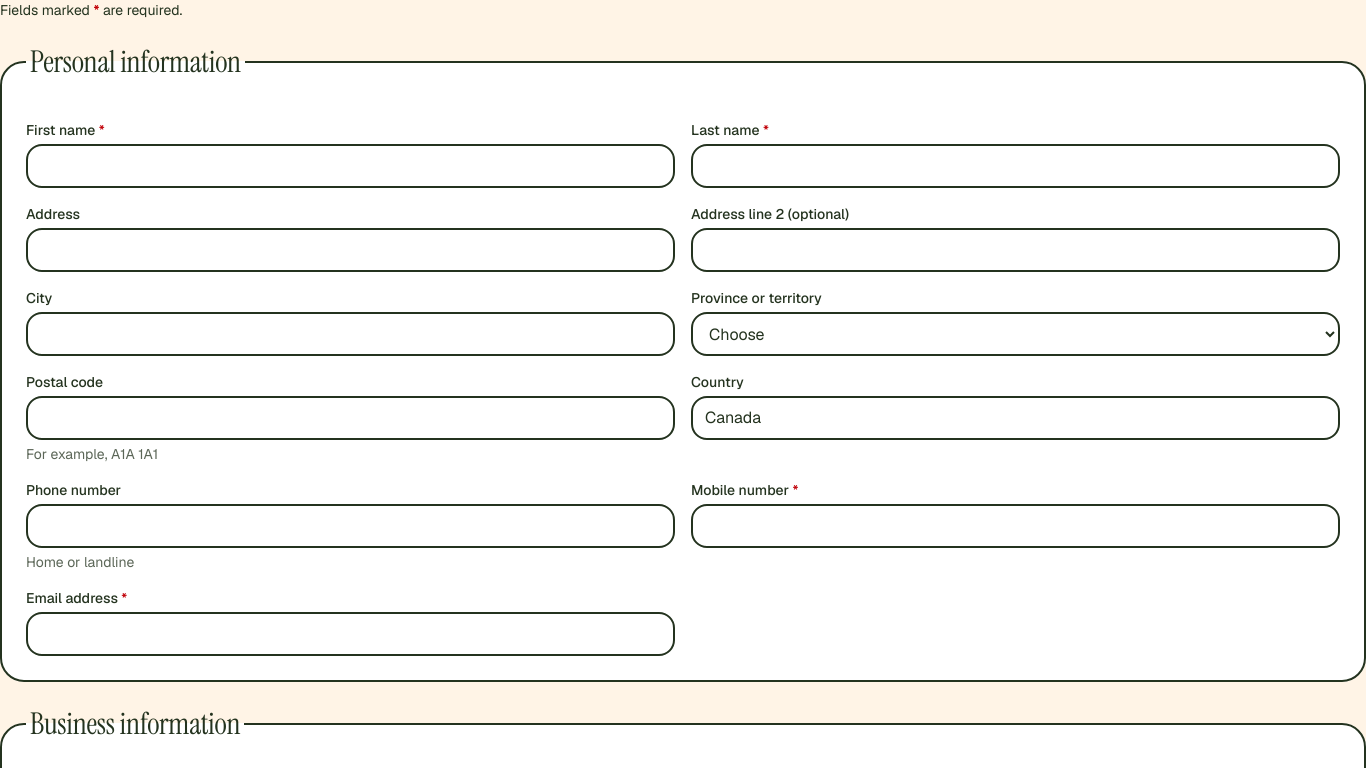
it: sign up form › signs up with the email box unticked, and shows the thank you message
The image size is (1366, 768).
Type "Test" into the field labelled "First name *" at (350, 166), box top-left (26, 144), bottom-right (675, 188)
Type "Person" into the field labelled "Last name *" at (1016, 166), box top-left (691, 144), bottom-right (1340, 188)
Type "416 555 0100" into the field labelled "Mobile number *" at (1016, 526), box top-left (691, 504), bottom-right (1340, 548)
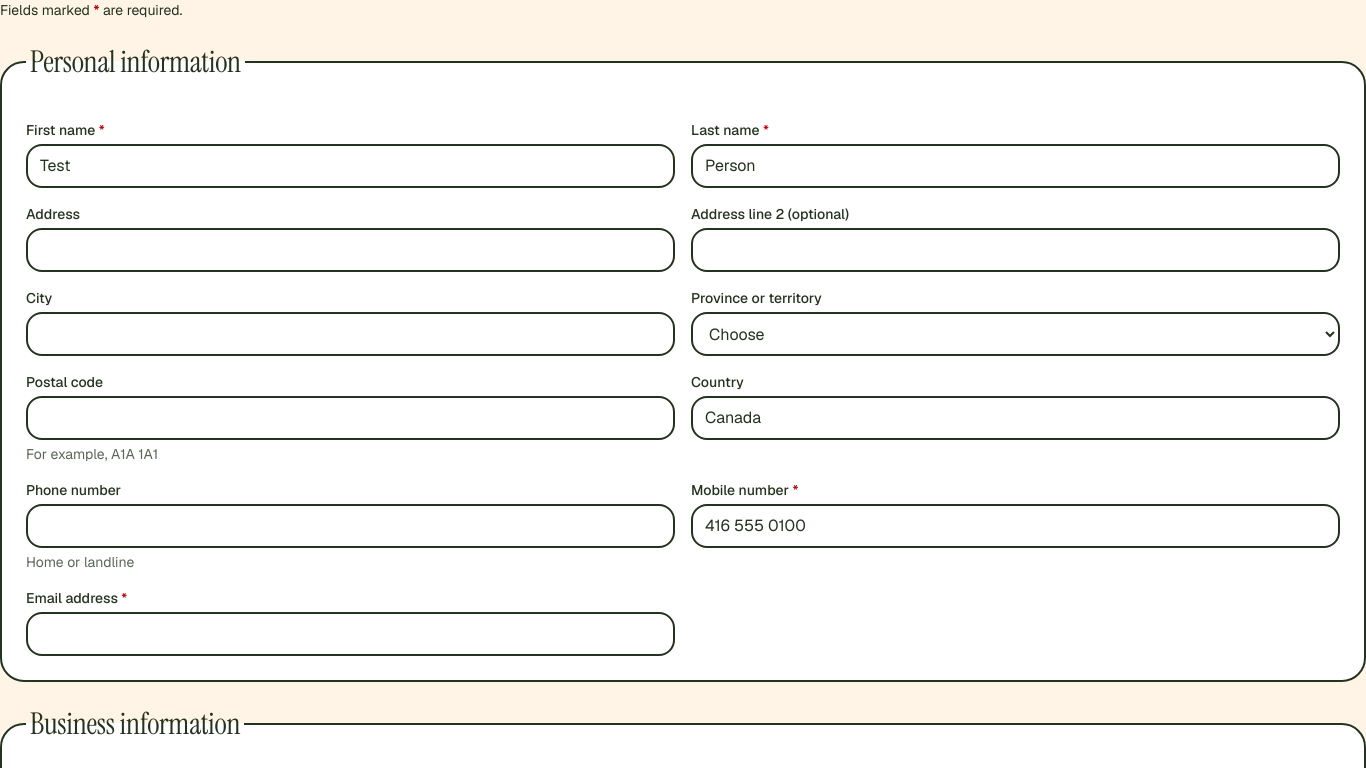
Type "test@example.com" into the field labelled "Email address *" at (350, 634), box top-left (26, 612), bottom-right (675, 656)
(page scrolled)
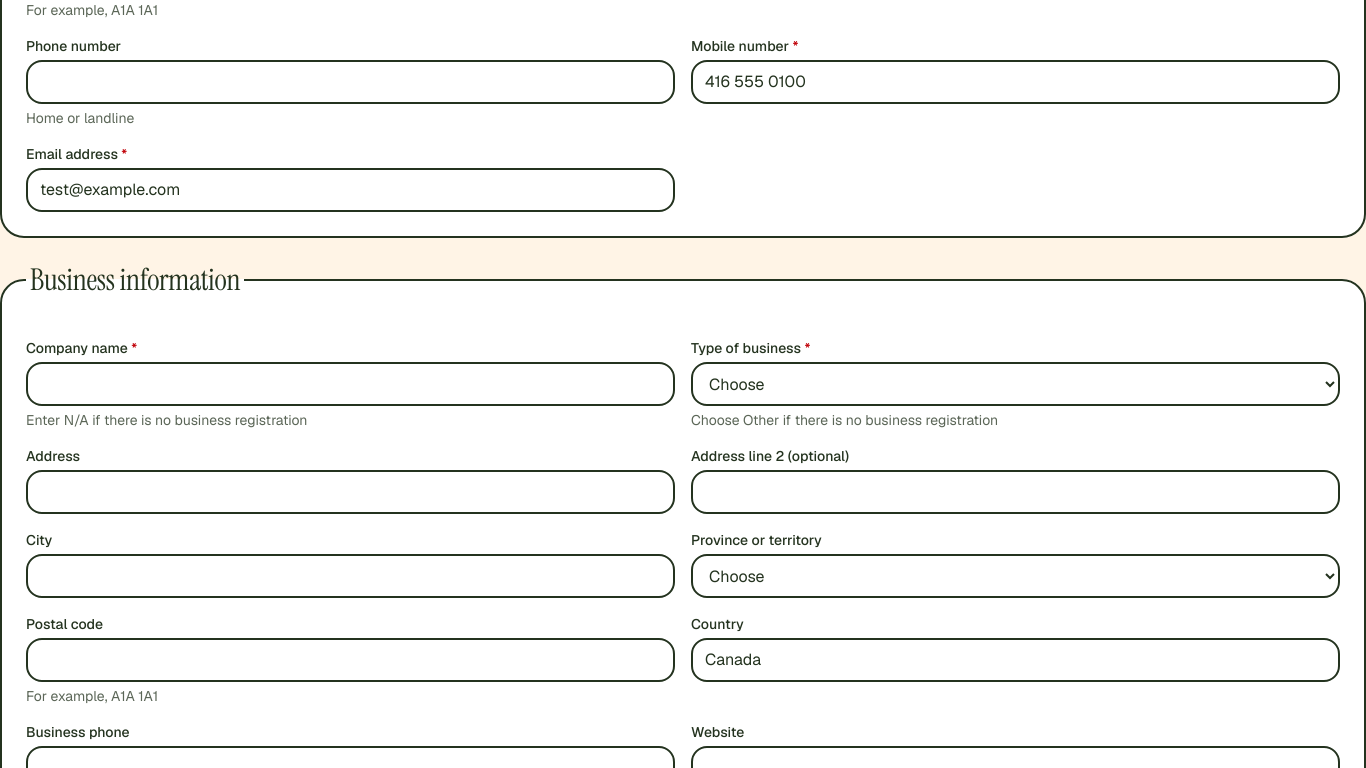
Type "N/A" into the field labelled "Company name *" at (350, 384), box top-left (26, 362), bottom-right (675, 406)
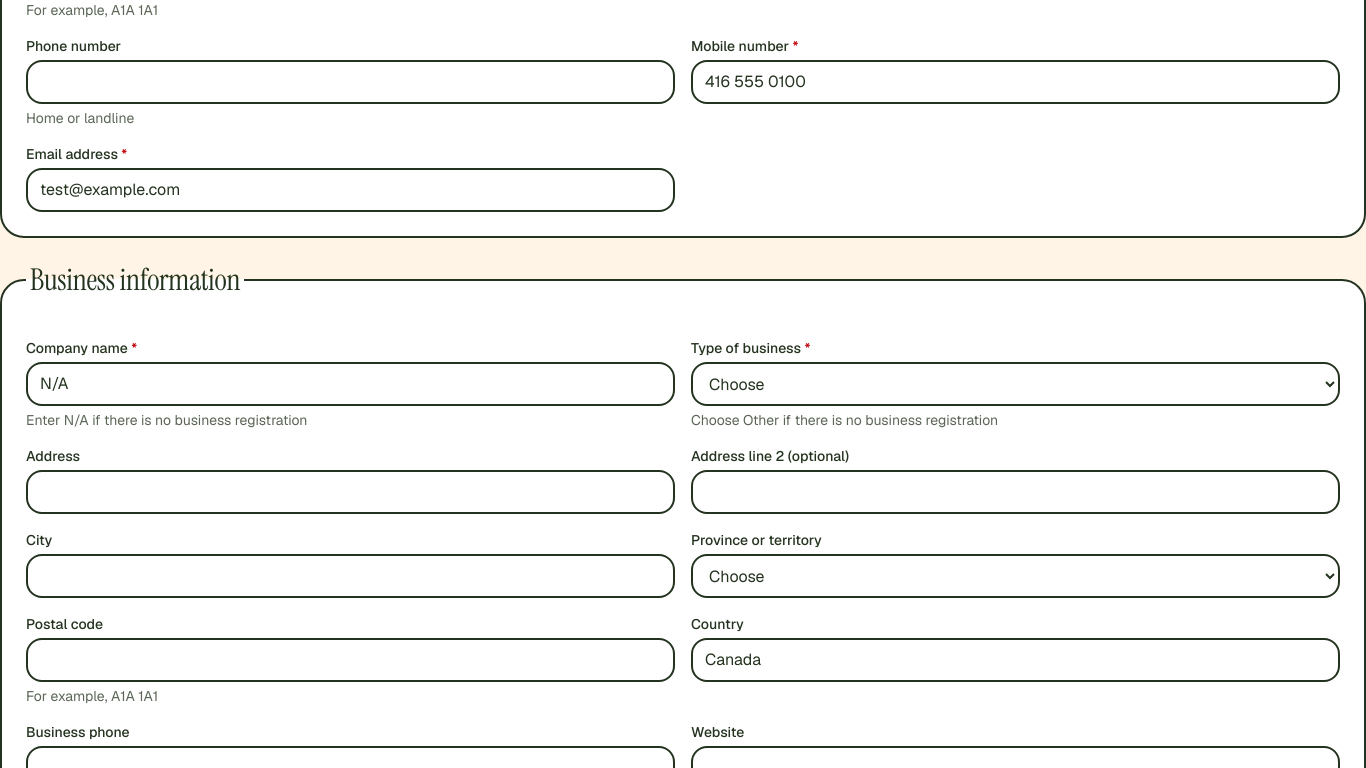
Select "Other" in the dropdown labelled "Type of business *" at (1016, 384), box top-left (691, 362), bottom-right (1340, 406)
(page scrolled)
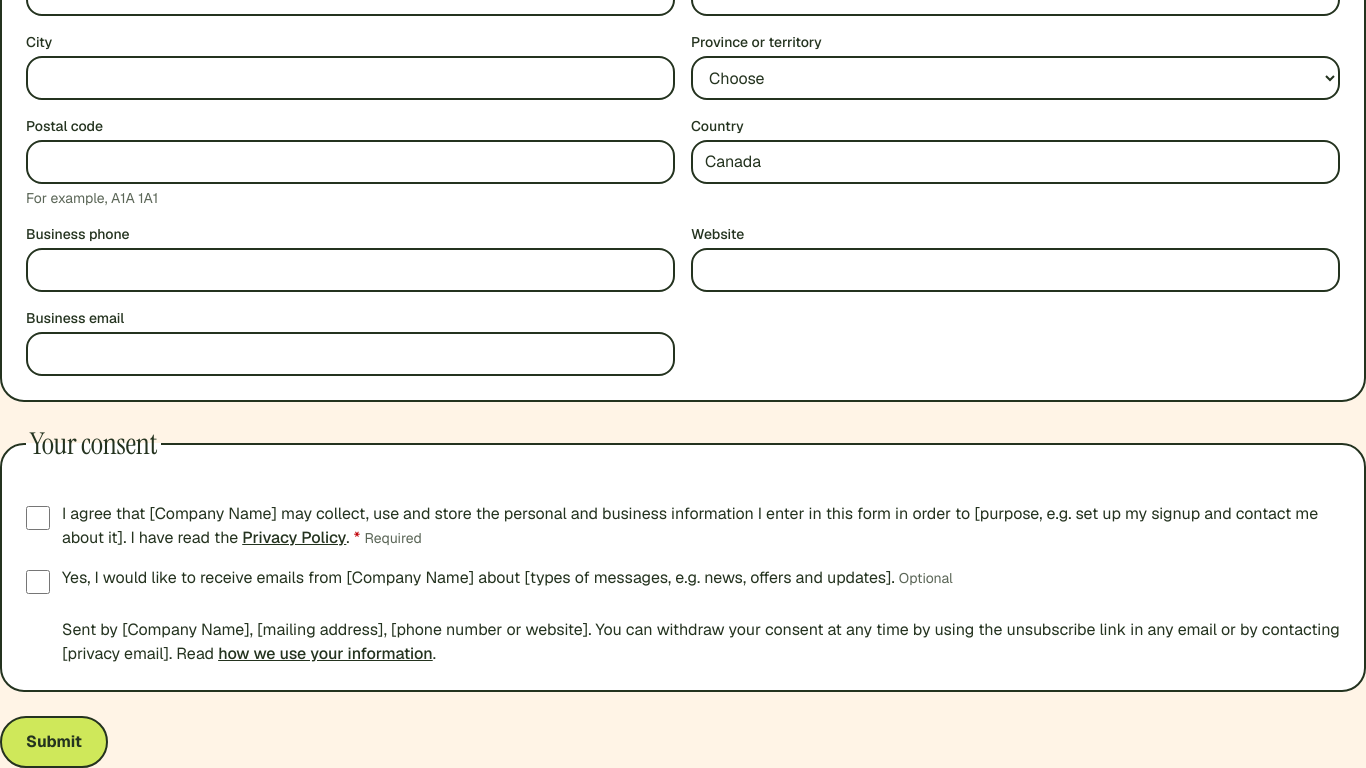
Click the checkbox labelled "I agree that" at (38, 518), box top-left (26, 506), bottom-right (50, 530)
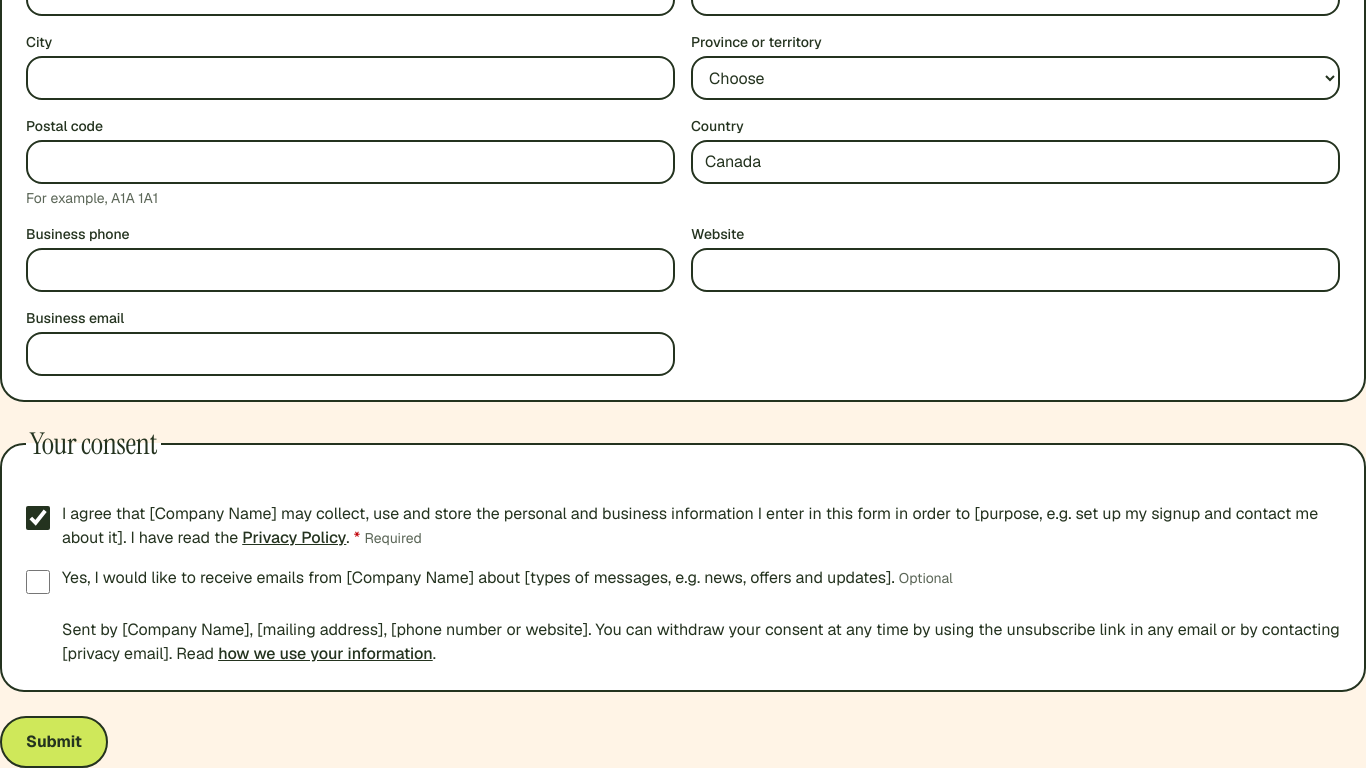
Click the button "Submit" at (54, 742), box top-left (0, 716), bottom-right (108, 767)
(page scrolled)
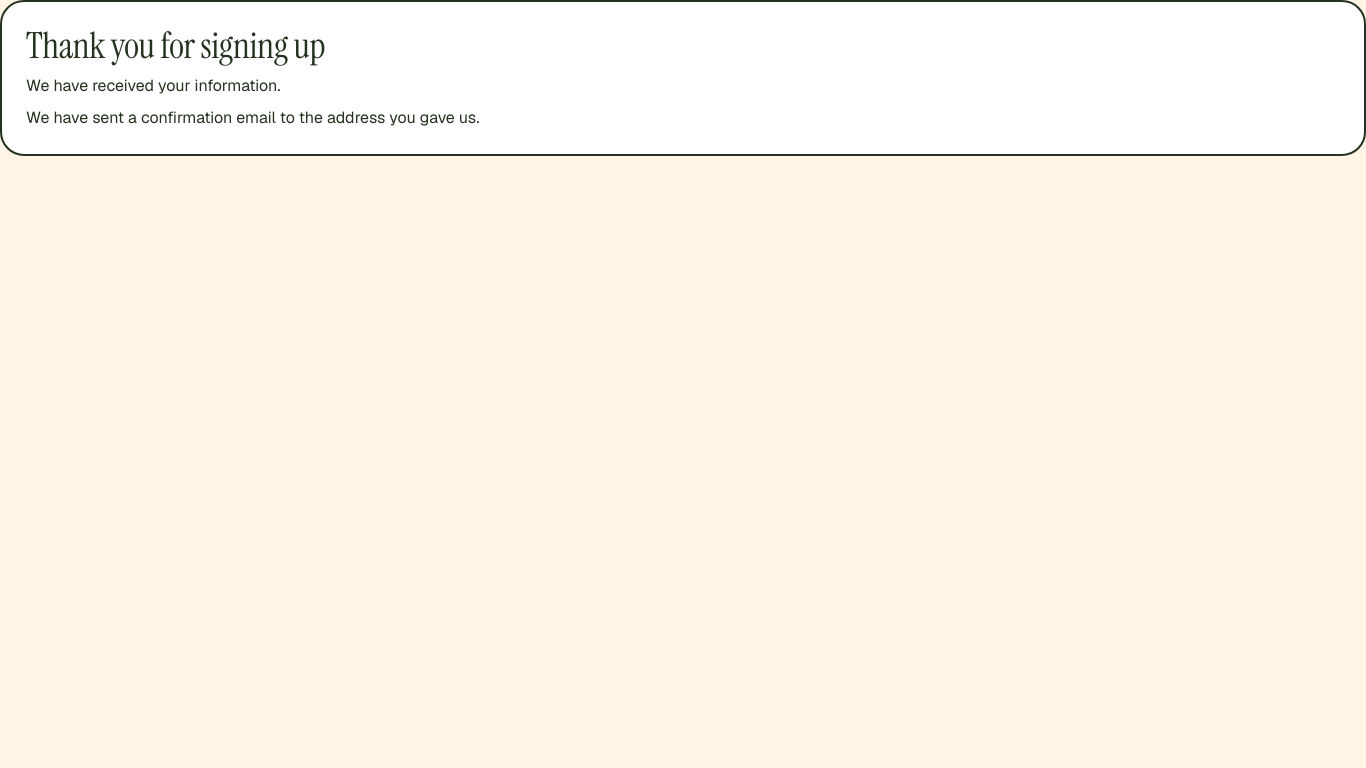
Result: the message is shown at top-left (0, 0), bottom-right (1365, 156)
Result: the heading "Thank you for signing up" is shown at top-left (26, 22), bottom-right (325, 69)
Result: the text "We have sent a confirmation email" is shown at top-left (26, 107), bottom-right (479, 128)
